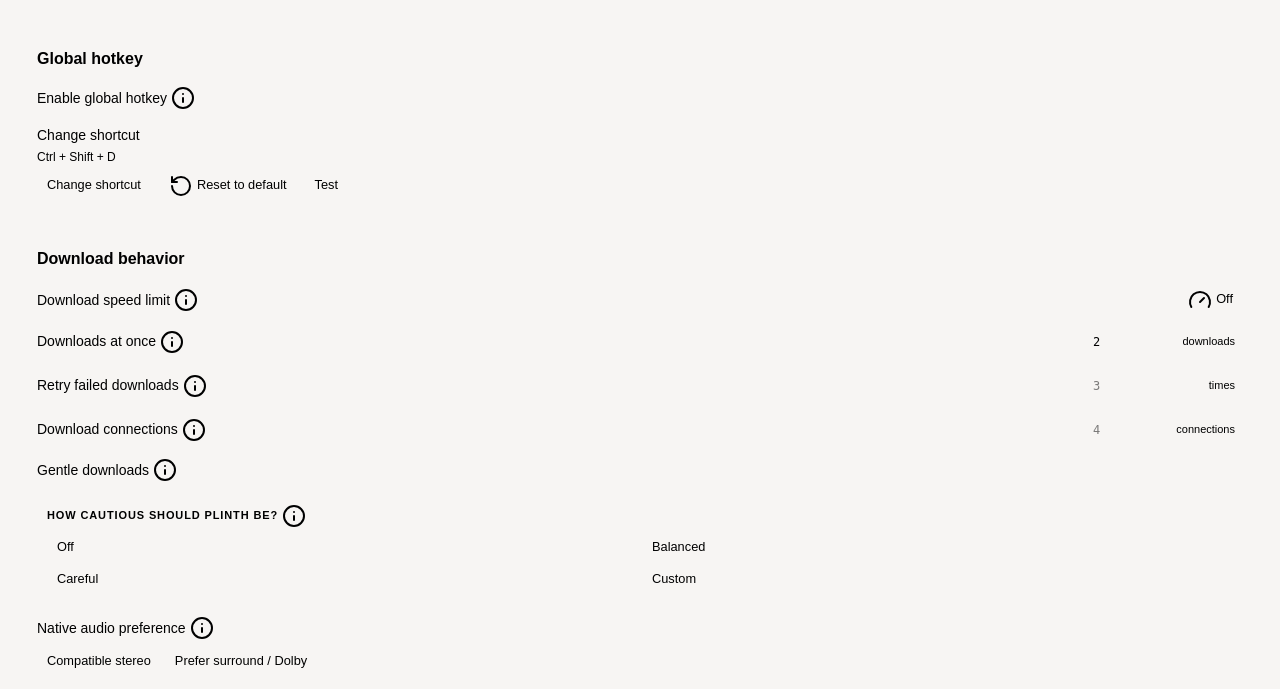
Test case: download connections setting › rejects a concurrent-downloads value above the maximum
This screenshot has width=1280, height=689.
(page scrolled)
Step 1. Replace the text in the number field with test id "concurrent-downloads-input" with "50" → (1133, 342), box left=1083, top=326, right=1182, bottom=358
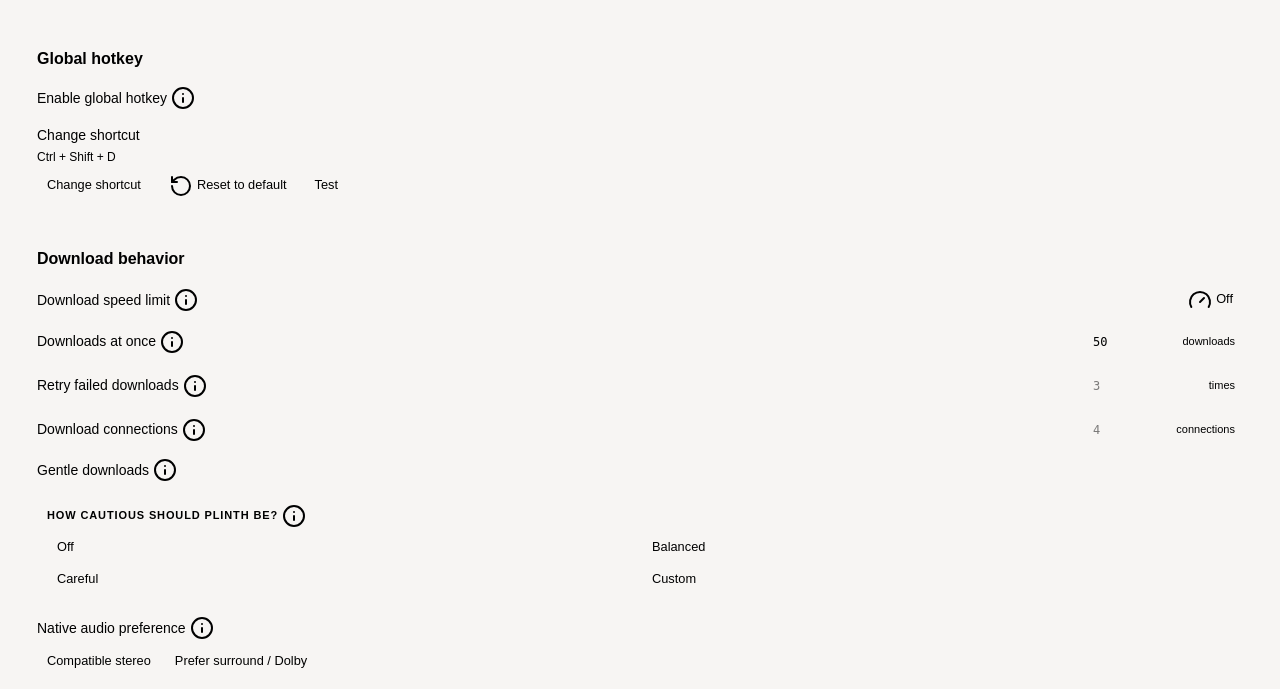
Step 2. Leave the number field with test id "concurrent-downloads-input", box left=1083, top=326, right=1182, bottom=358
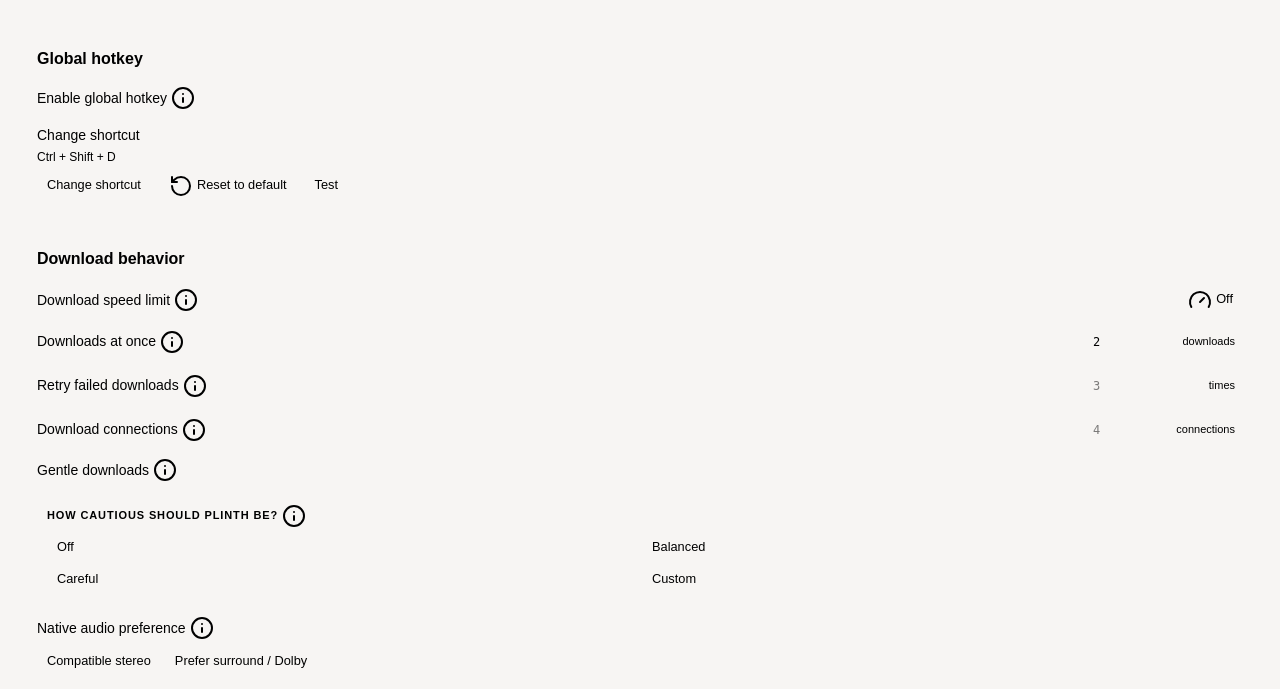
Expected: the number field with test id "concurrent-downloads-input" holds "2", left=1083, top=326, right=1182, bottom=358
